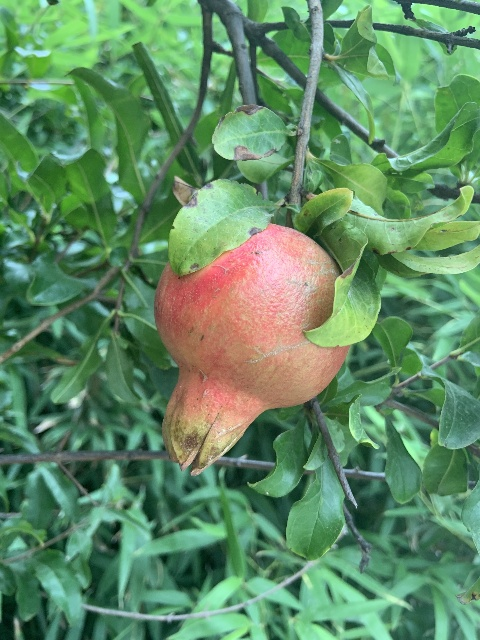ripe: (154, 222, 346, 472)
